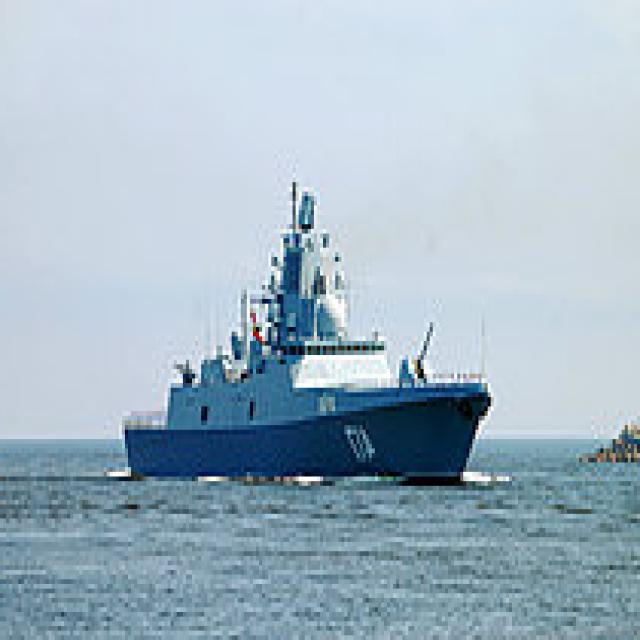Warship: (122, 168, 500, 481)
